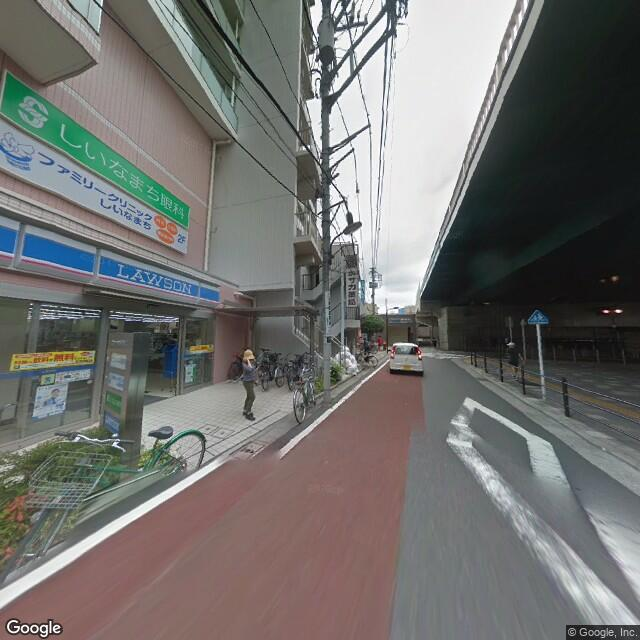lawson: (1, 217, 223, 308)
